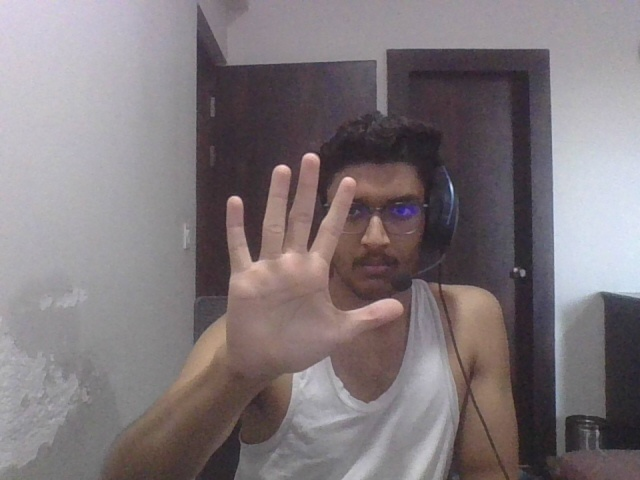Hello: (209, 148, 407, 373)
